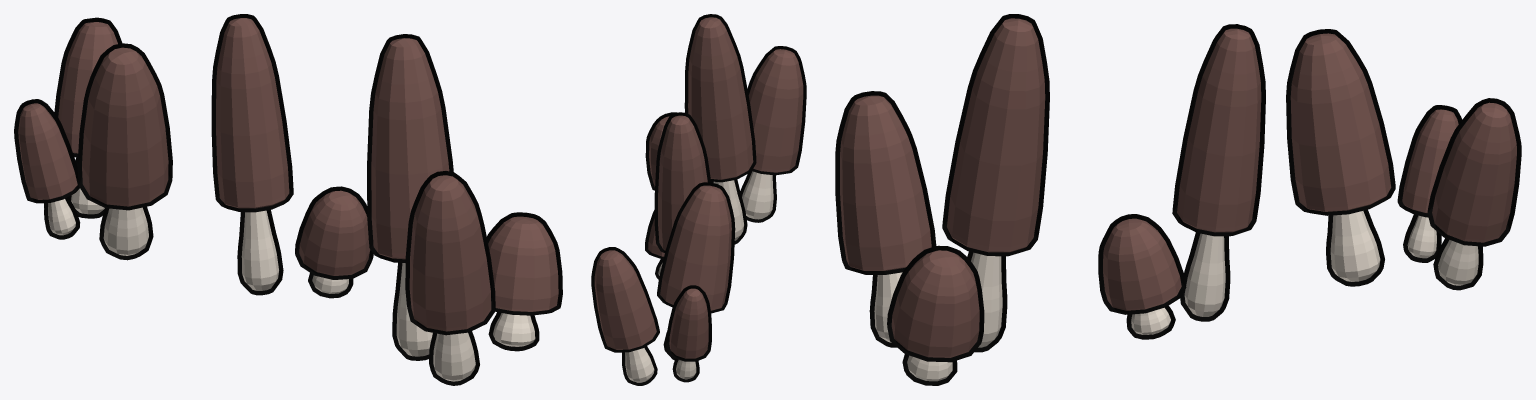
Rendered from shroom_2_ensemble.fbx.
3 views of the same model, side by side, from view 1: azimuth 30°, elevation 25°; view 2: azimuth 150°, elevation 25°; view 3: azimuth 270°, elevation 25° (orthographic). The views are drawn at different scales.
Visible parts, largest first — view 1: shroom_2_ensemble, shroom_2_ensemble_outliner; view 2: shroom_2_ensemble, shroom_2_ensemble_outliner; view 3: shroom_2_ensemble, shroom_2_ensemble_outliner.
Part boxes in pixels (x1,y1,x2,y2): shroom_2_ensemble: (18, 18, 558, 381); shroom_2_ensemble_outliner: (14, 14, 562, 385); shroom_2_ensemble: (594, 17, 803, 382); shroom_2_ensemble_outliner: (591, 14, 806, 385); shroom_2_ensemble: (840, 18, 1516, 381); shroom_2_ensemble_outliner: (835, 14, 1521, 385).
Bounding box in the file's own units: 38.63 × 36.92 × 68.86.
